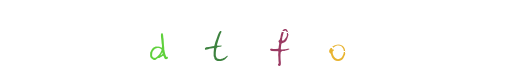D: (147, 0, 227, 80)
F: (232, 0, 312, 80)
O: (240, 0, 320, 80)
T: (225, 0, 305, 80)
